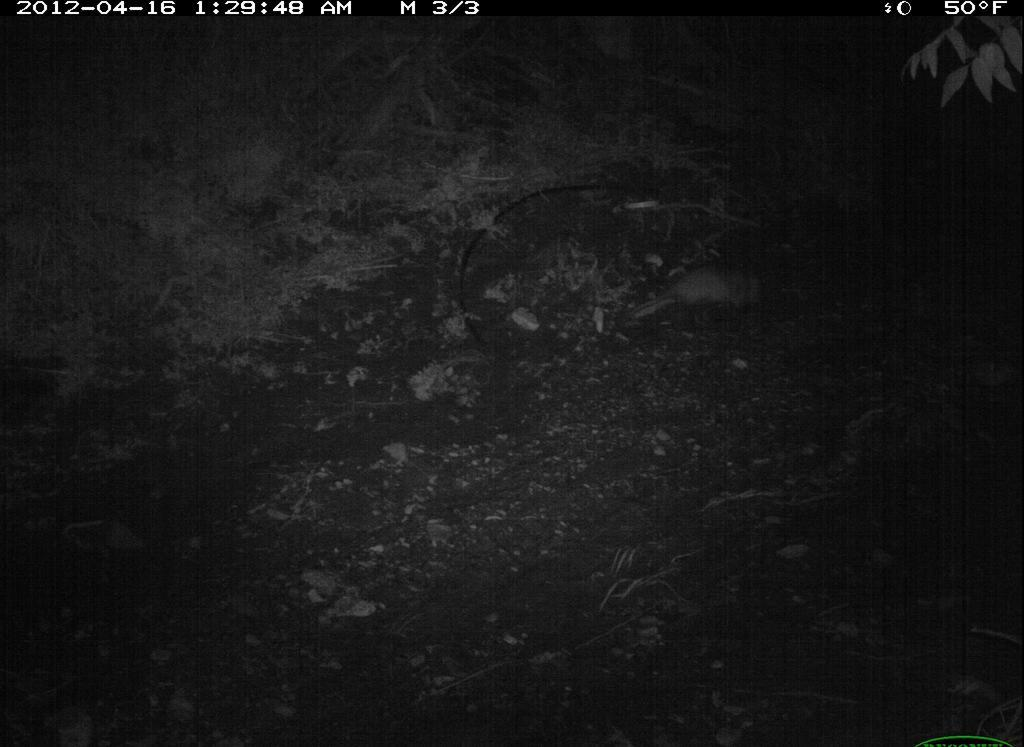opossum: (614, 258, 779, 329)
